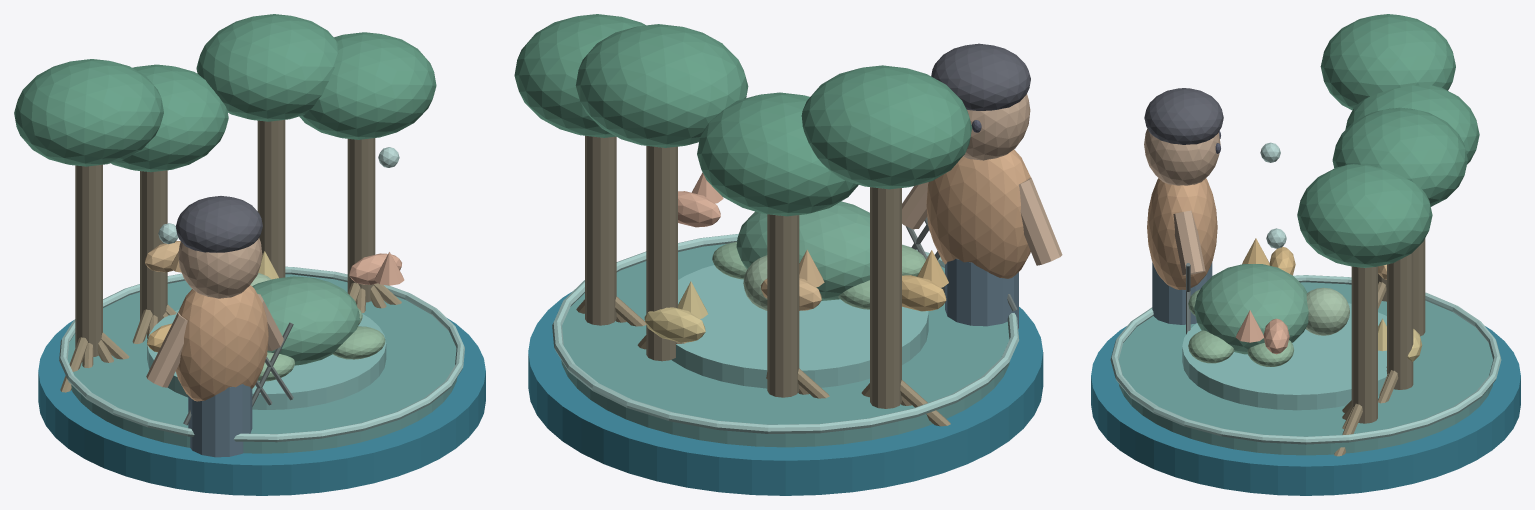
The model's file is the-map-beneath-the-mangroves-scene-2.glb.
3 views of the same model, side by side, from view 1: azimuth 30°, elevation 25°; view 2: azimuth 150°, elevation 25°; view 3: azimuth 270°, elevation 25° (orthographic). The views are drawn at different scales.
Parts seen in each view (by area): view 1: deep water plinth, shore or habitat, nursery mangrove 0 canopy, nursery mangrove 2 canopy, nursery mangrove 3 canopy, Naya coat, nursery mangrove 1 canopy, young green turtle shell, outer waterline, quiet nursery pool, nursery mangrove 0 trunk, nursery mangrove 2 trunk (+11 smaller); view 2: deep water plinth, shore or habitat, nursery mangrove 0 canopy, nursery mangrove 2 canopy, quiet nursery pool, nursery mangrove 1 canopy, Naya coat, nursery mangrove 3 canopy, outer waterline, nursery mangrove 0 trunk, young green turtle shell, nursery mangrove 3 trunk (+16 smaller); view 3: shore or habitat, deep water plinth, nursery mangrove 3 canopy, quiet nursery pool, nursery mangrove 0 canopy, nursery mangrove 2 canopy, young green turtle shell, outer waterline, Naya coat, nursery mangrove 3 trunk, Naya hair, nursery mangrove 1 canopy (+11 smaller).
Boxes of the visible parts, x1,y1,x2,y2 form: deep water plinth: [38, 318, 485, 495]; shore or habitat: [67, 274, 456, 453]; nursery mangrove 0 canopy: [14, 59, 163, 166]; nursery mangrove 2 canopy: [196, 14, 338, 121]; nursery mangrove 3 canopy: [299, 32, 436, 139]; Naya coat: [175, 285, 268, 401]; nursery mangrove 1 canopy: [111, 64, 228, 172]; young green turtle shell: [252, 276, 359, 365]; outer waterline: [59, 266, 464, 442]; quiet nursery pool: [147, 309, 386, 409]; nursery mangrove 0 trunk: [75, 164, 102, 356]; nursery mangrove 2 trunk: [257, 120, 285, 277]; deep water plinth: [528, 291, 1043, 495]; shore or habitat: [561, 244, 1009, 447]; nursery mangrove 0 canopy: [801, 65, 972, 189]; nursery mangrove 2 canopy: [575, 24, 748, 147]; quiet nursery pool: [671, 265, 928, 388]; nursery mangrove 1 canopy: [697, 92, 858, 216]; Naya coat: [926, 149, 1030, 278]; nursery mangrove 3 canopy: [514, 14, 645, 137]; outer waterline: [552, 233, 1019, 433]; nursery mangrove 0 trunk: [870, 187, 901, 408]; young green turtle shell: [736, 201, 869, 300]; nursery mangrove 3 trunk: [585, 135, 616, 325]; shore or habitat: [1118, 282, 1493, 455]; deep water plinth: [1091, 326, 1520, 495]; nursery mangrove 3 canopy: [1297, 164, 1432, 267]; quiet nursery pool: [1182, 303, 1387, 410]; nursery mangrove 0 canopy: [1320, 14, 1455, 110]; nursery mangrove 2 canopy: [1332, 107, 1467, 206]; young green turtle shell: [1194, 264, 1308, 354]; outer waterline: [1110, 275, 1501, 444]; Naya coat: [1147, 178, 1217, 289]; nursery mangrove 3 trunk: [1351, 266, 1377, 423]; Naya hair: [1144, 88, 1223, 144]; nursery mangrove 1 canopy: [1345, 85, 1479, 164].
Size of the model in its own units: 0.7696 by 0.624 by 0.7592.
